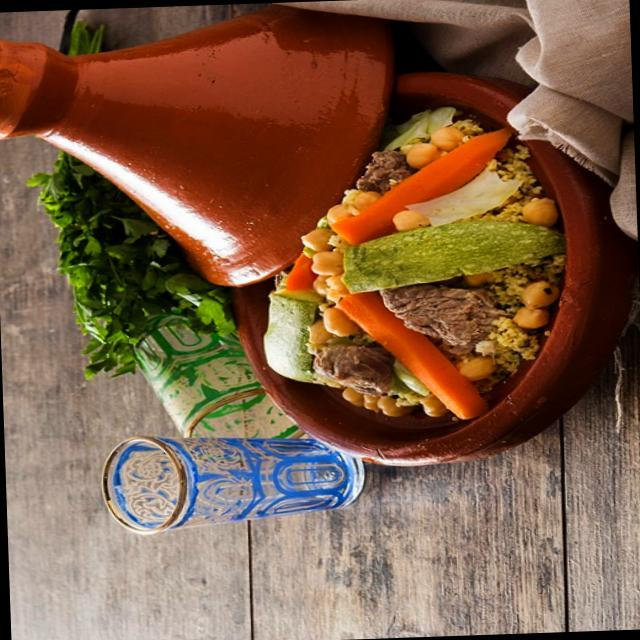Couscous: (228, 99, 576, 428)
